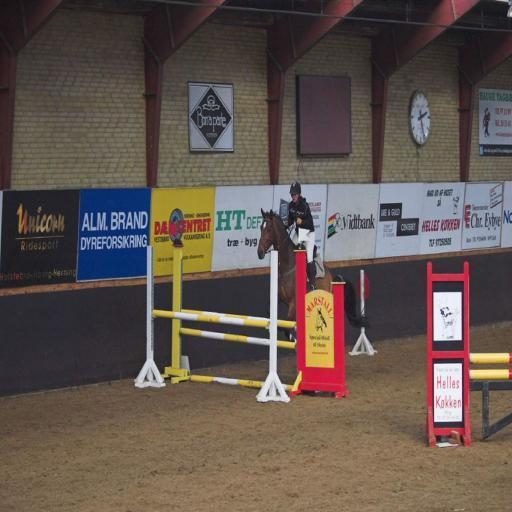horse: (258, 204, 370, 340)
